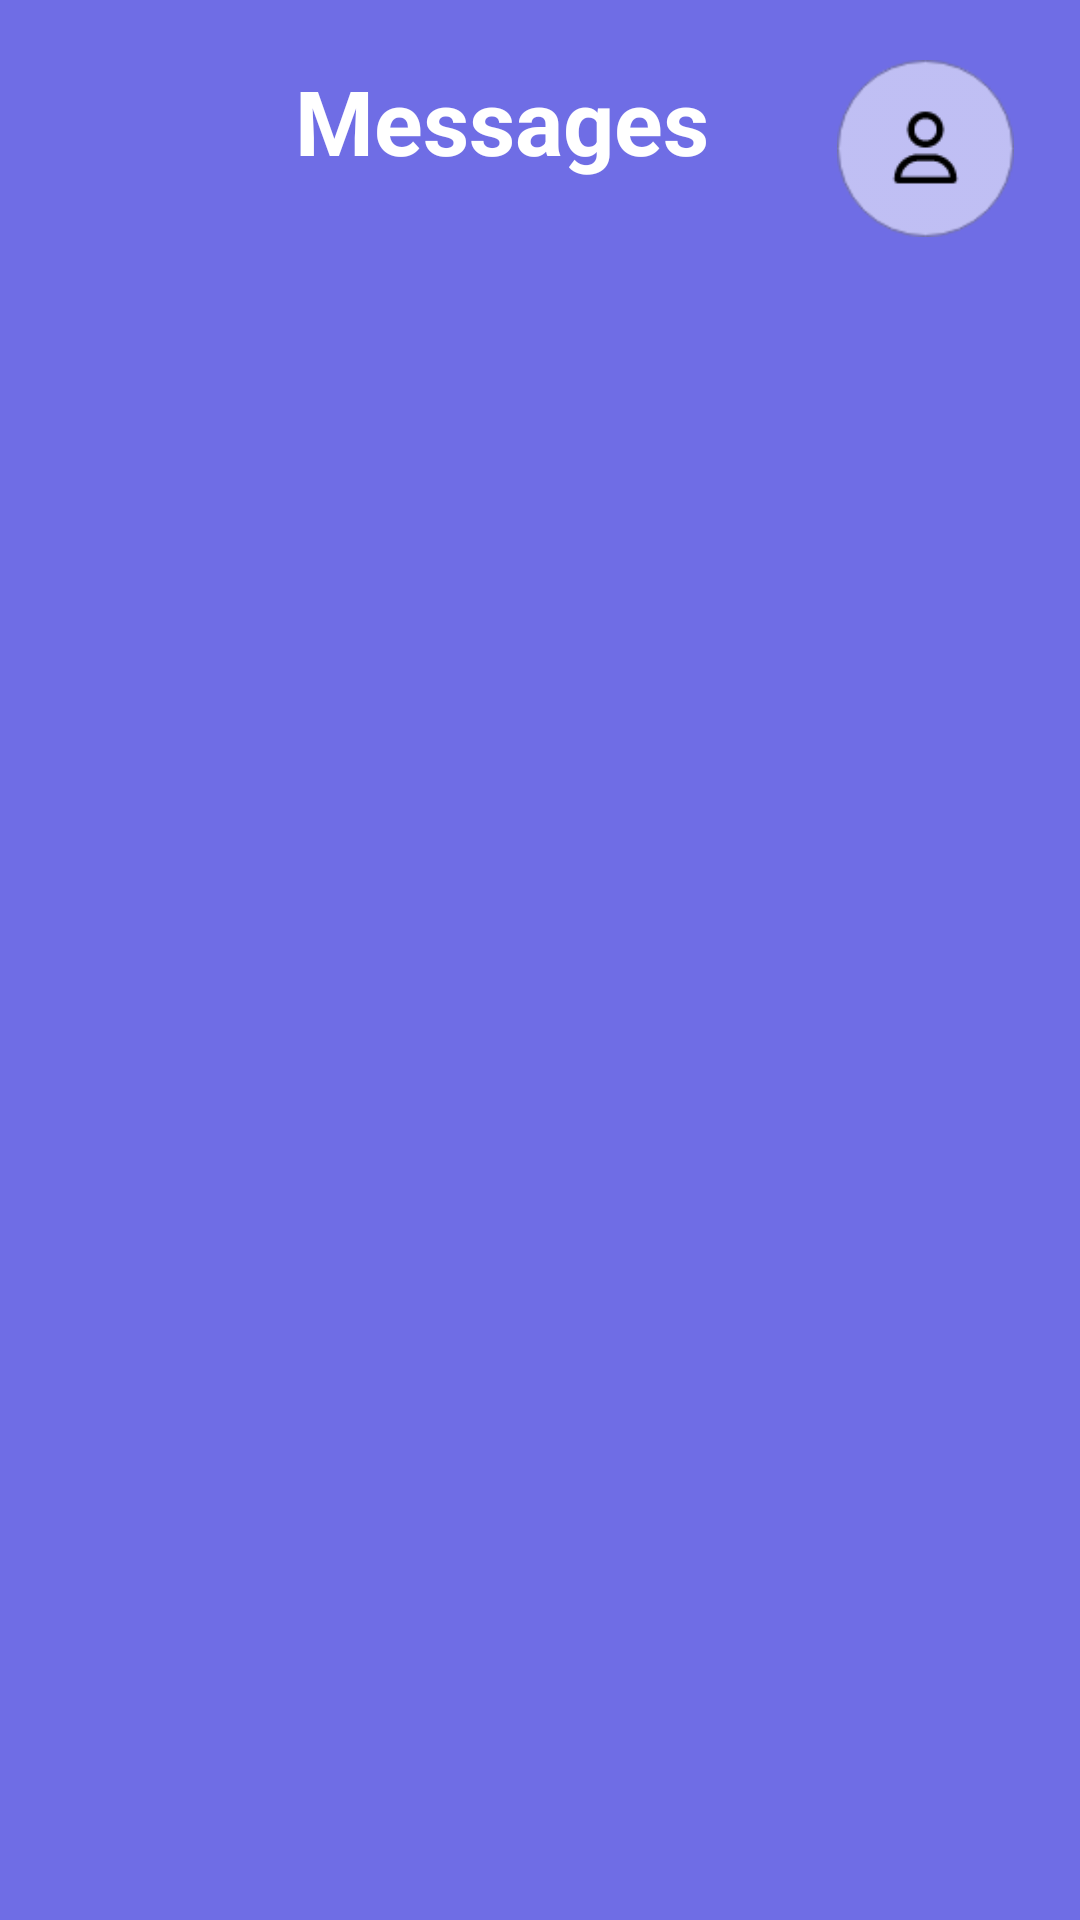

Icon bounding boxes for this 1080×1920 phone screenshot, format [x1, y1, x2, y2]:
user: [837, 60, 1014, 237]
